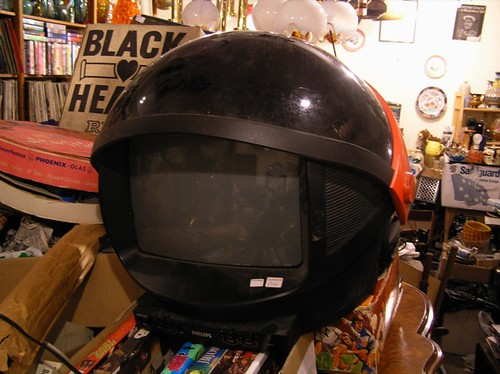helmet: (129, 29, 385, 145)
